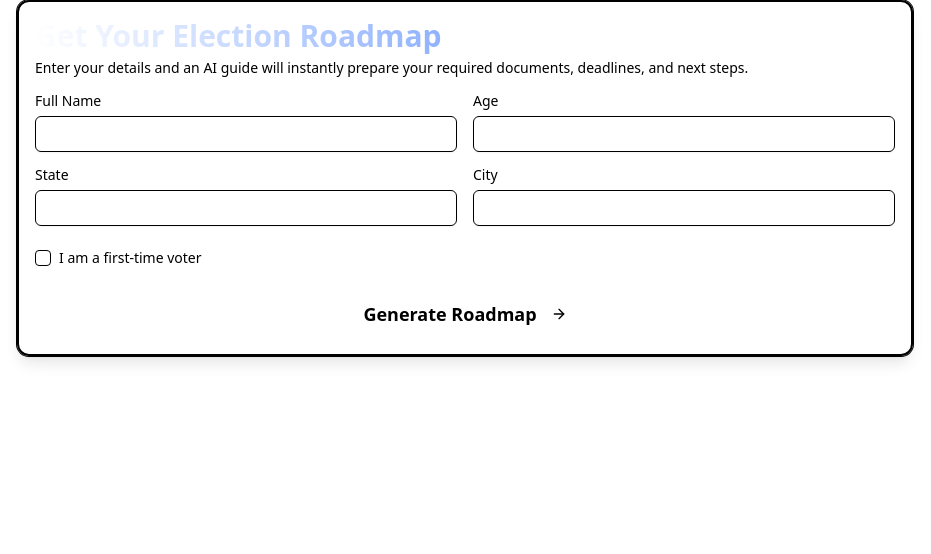
Test case: VoterJourney Component › should display journey results on successful submission
Type "Test User" into the field labelled "Full Name".
click(246, 134); type("Test User")  # box [35,116,457,152]
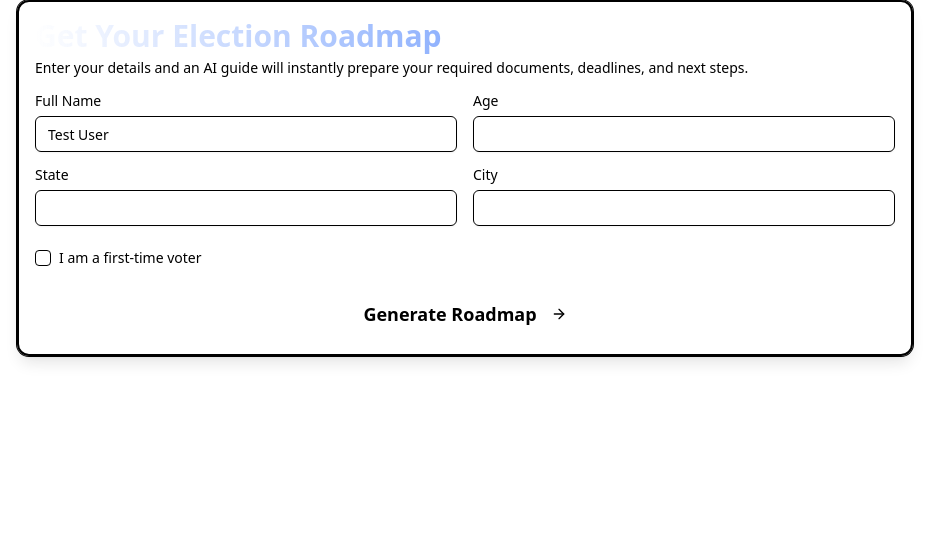
Type "25" into the number field labelled "Age".
click(684, 134); type("25")  # box [473,116,895,152]
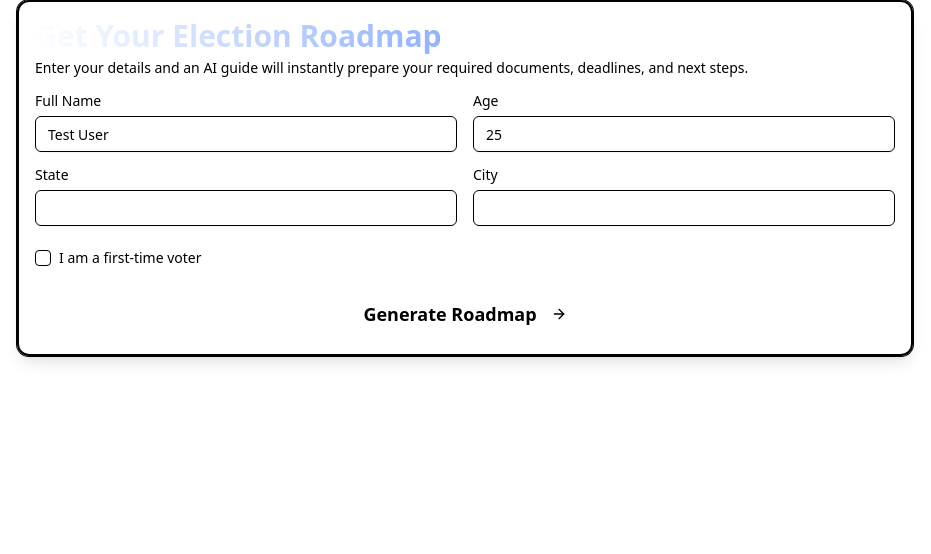
Type "Delhi" into the field labelled "State".
click(246, 208); type("Delhi")  # box [35,190,457,226]
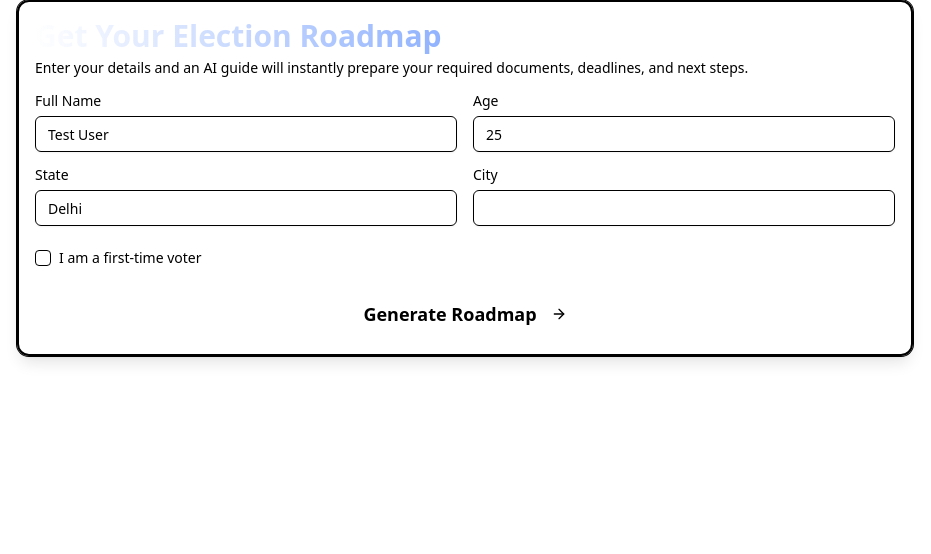
Type "New Delhi" into the field labelled "City".
click(684, 208); type("New Delhi")  # box [473,190,895,226]
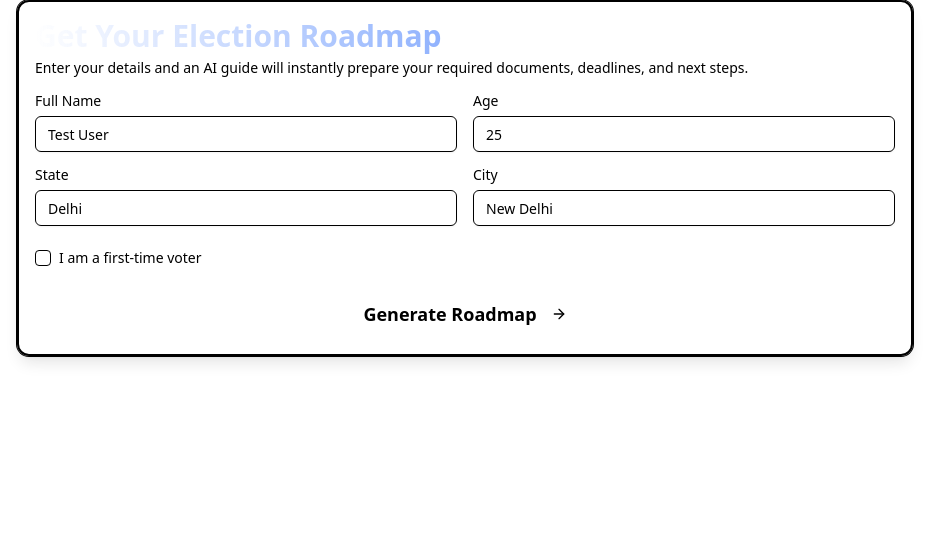
Click the button "Generate Roadmap".
click(465, 314)  # box [35,290,895,338]
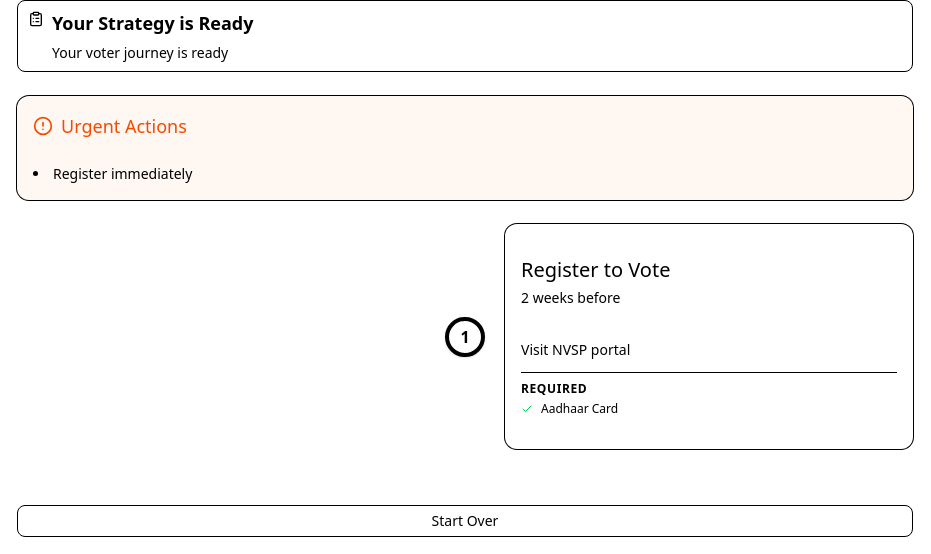
Result: the text "Your Strategy is Ready" is shown at [52,11,254,35]
Result: the text "Your voter journey is ready" is shown at [52,43,228,62]
Result: the text "Register to Vote" is shown at [521,256,670,284]
